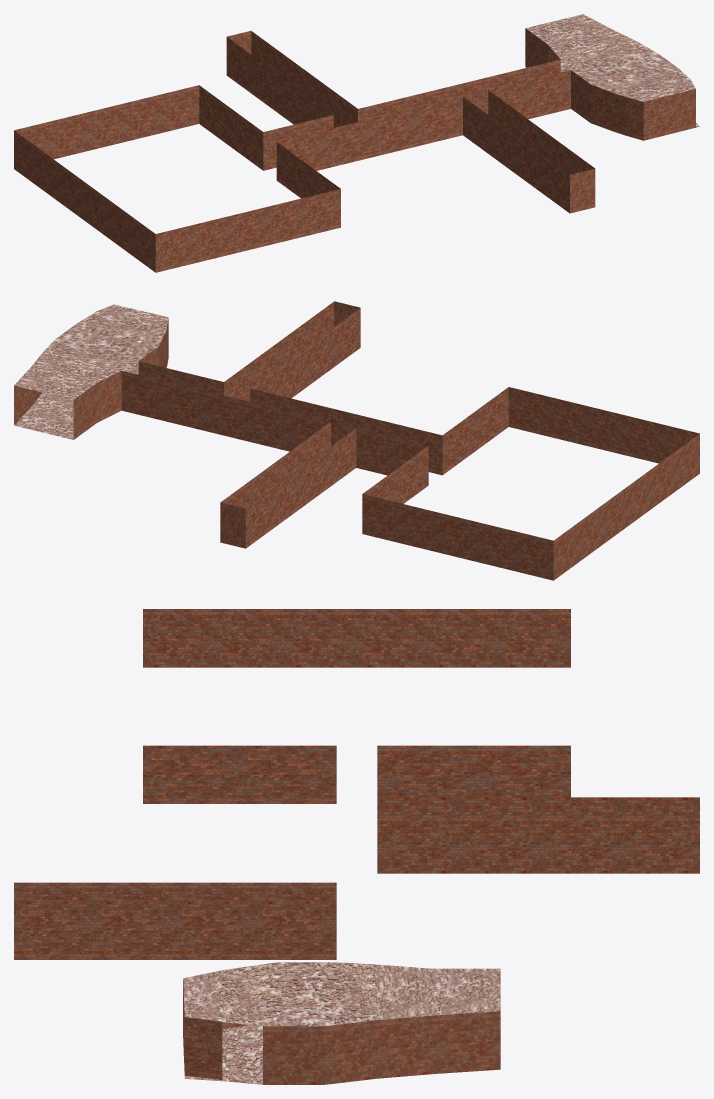
File: level2.obj
3 views of the same model, one above another, from view 1: azimuth 30°, elevation 25°; view 2: azimuth 150°, elevation 25°; view 3: azimuth 270°, elevation 25° (orthographic). The views are drawn at different scales.
Parts seen in each view (by area): view 1: Plane.002, Plane.000_Plane.001; view 2: Plane.002, Plane.000_Plane.001; view 3: Plane.002, Plane.000_Plane.001.
Part boxes in pixels (x1,y1,x2,y2): Plane.002: (14, 28, 695, 272); Plane.000_Plane.001: (526, 14, 699, 134); Plane.002: (14, 301, 699, 580); Plane.000_Plane.001: (14, 304, 168, 439); Plane.002: (14, 609, 699, 1084); Plane.000_Plane.001: (183, 962, 500, 1084).
Size of the model in its own units: 15.21 by 1.04 by 10.63.
